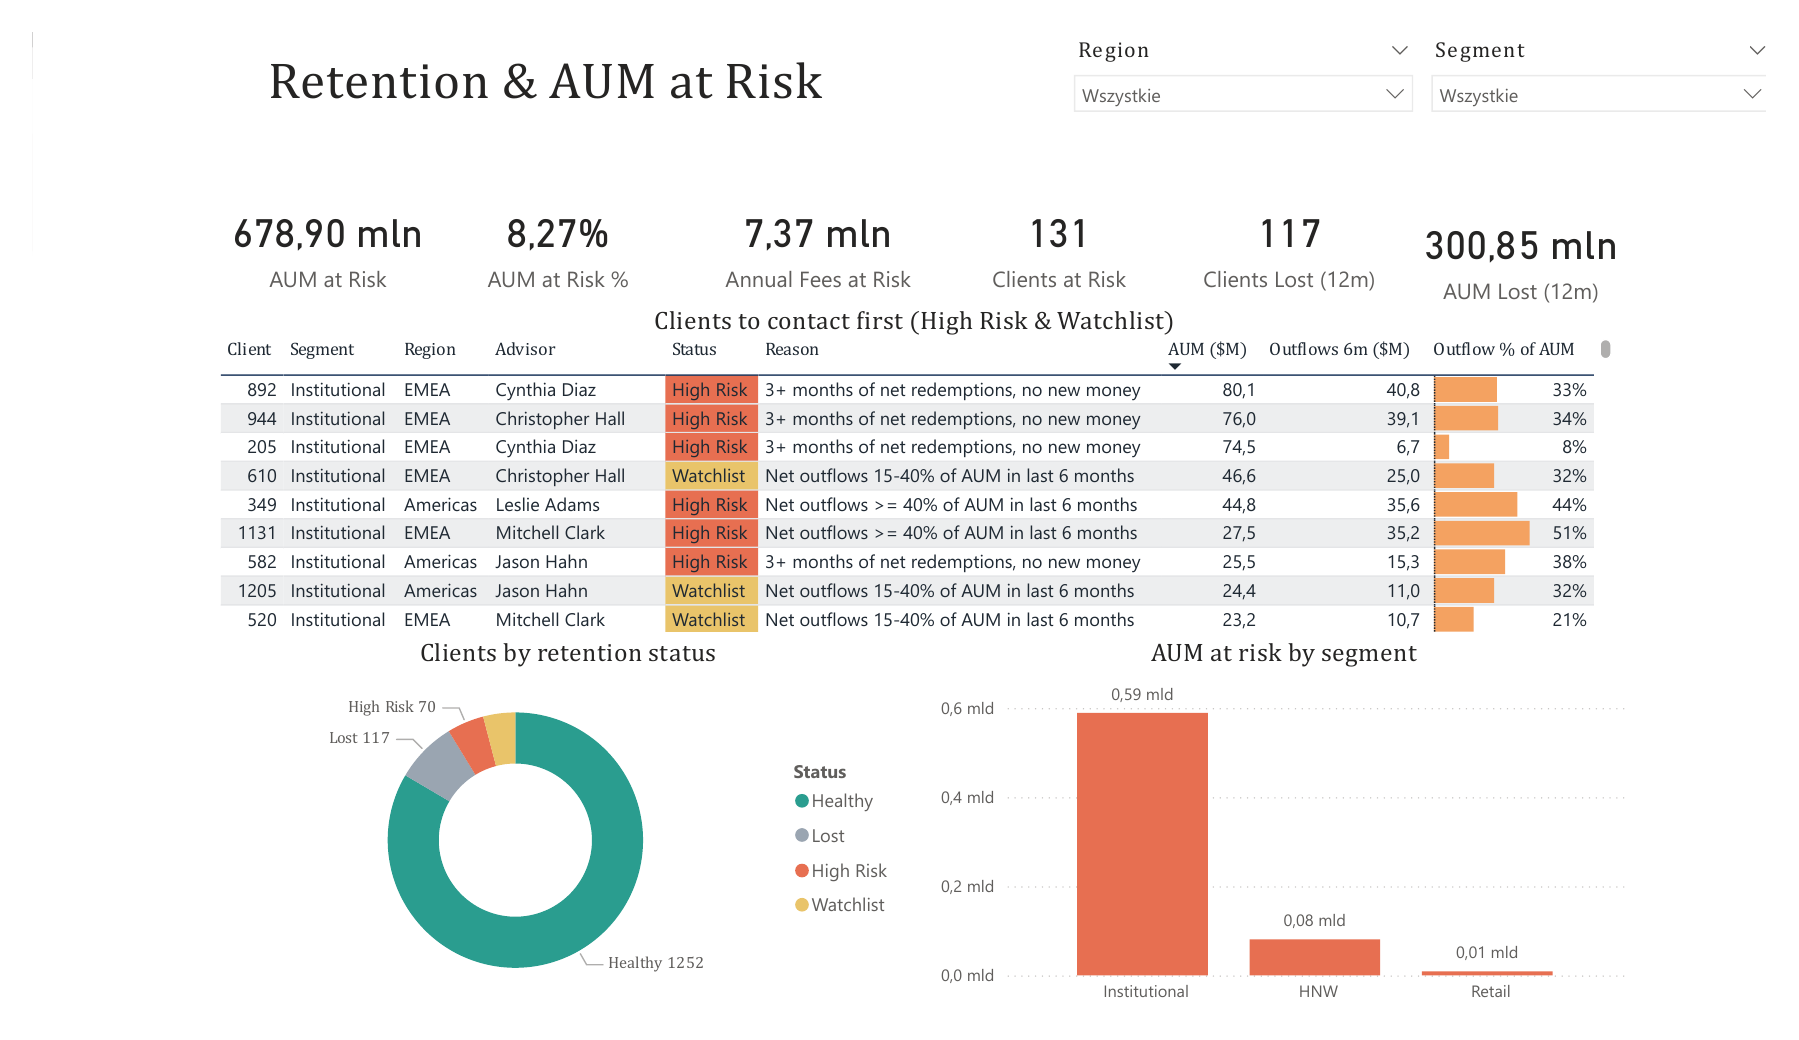

Layout of this report page (visuals, bound fields, positions):
{"tool":"powerbi","page":{"name":"Retention & AUM at Risk","canvas":[1280,720],"ordinal":2},"visuals":[{"type":"textbox","box":[0,11.2,751.2,62.5],"z":0},{"type":"slicer","fields":{"Values":["Dim_Advisors.region"]},"box":[751.2,0,267.5,62.5],"z":1},{"type":"slicer","fields":{"Values":["Dim_Advisors.segment"]},"box":[1012.5,0,267.5,61.2],"z":2},{"type":"card","fields":{"Values":["_Measures.AUM at Risk"]},"box":[131.2,92.5,168.8,127.5],"z":10},{"type":"card","fields":{"Values":["_Measures.AUM at Risk %"]},"box":[300,92.5,168.8,127.5],"z":11},{"type":"card","fields":{"Values":["_Measures.Annual Fees at Risk"]},"box":[490,92.5,168.8,127.5],"z":12},{"type":"card","fields":{"Values":["_Measures.Clients at Risk"]},"box":[666.2,92.5,168.8,127.5],"z":13},{"type":"card","fields":{"Values":["_Measures.Clients Lost (12m)"]},"box":[835,92.5,168.8,127.5],"z":14},{"type":"card","fields":{"Values":["_Measures.AUM Lost (12m)"]},"box":[1003.8,101.2,168.8,127.5],"z":15},{"type":"tableEx","title":"Clients to contact first (High Risk & Watchlist)","fields":{"Values":["Dim_Clients.client_id","Dim_Clients.segment","Dim_Clients.region","Dim_Clients.Advisor","Dim_Clients.retention_status","Dim_Clients.status_reason","Sum(Dim_Clients.AUM now ($M))","Sum(Dim_Clients.Outflows 6m ($M))","Sum(Dim_Clients.outflow_ratio_6m)"]},"box":[131.2,201.2,1027.5,242.5],"z":16},{"type":"donutChart","title":"Clients by retention status","fields":{"Category":["Dim_Clients.retention_status"],"Y":["CountNonNull(Dim_Clients.client_id)"]},"box":[145,443.8,495,276.2],"z":17},{"type":"clusteredColumnChart","title":"AUM at risk by segment","fields":{"Category":["Dim_Clients.segment"],"Y":["_Measures.AUM at Risk"]},"box":[658.8,443.8,513.8,276.2],"z":18}]}

Visuals, with their boxes in screenshot pixels (x1, y1, x2, y2), scaled from the page's 1280x720 canvas onto the 1799x1040 screenshot:
textbox: bbox=[0, 16, 1056, 106]
slicer - Dim_Advisors.region: bbox=[1056, 0, 1432, 90]
slicer - Dim_Advisors.segment: bbox=[1423, 0, 1798, 88]
card - _Measures.AUM at Risk: bbox=[184, 134, 422, 318]
card - _Measures.AUM at Risk %: bbox=[422, 134, 659, 318]
card - _Measures.Annual Fees at Risk: bbox=[689, 134, 926, 318]
card - _Measures.Clients at Risk: bbox=[936, 134, 1174, 318]
card - _Measures.Clients Lost (12m): bbox=[1174, 134, 1411, 318]
card - _Measures.AUM Lost (12m): bbox=[1411, 146, 1648, 330]
"Clients to contact first (High Risk & Watchlist)" tableEx: bbox=[184, 291, 1629, 641]
"Clients by retention status" donutChart: bbox=[204, 641, 900, 1039]
"AUM at risk by segment" clusteredColumnChart: bbox=[926, 641, 1648, 1039]
